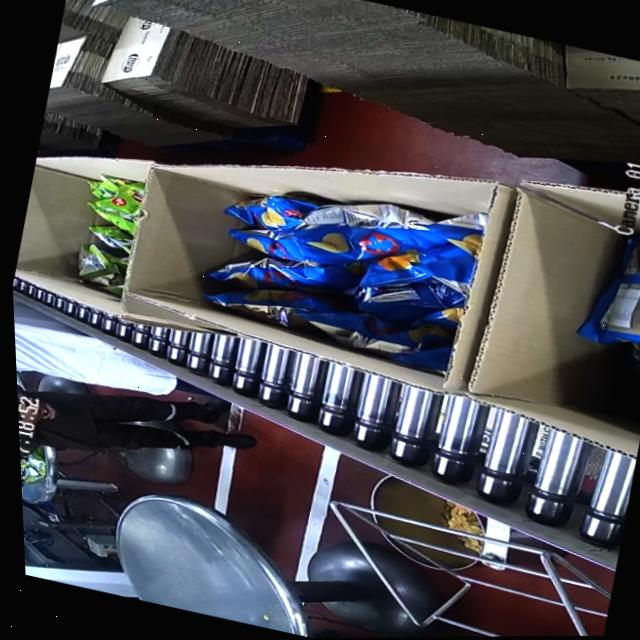PAPRIKA: (184, 157, 494, 369), (565, 211, 640, 372)
